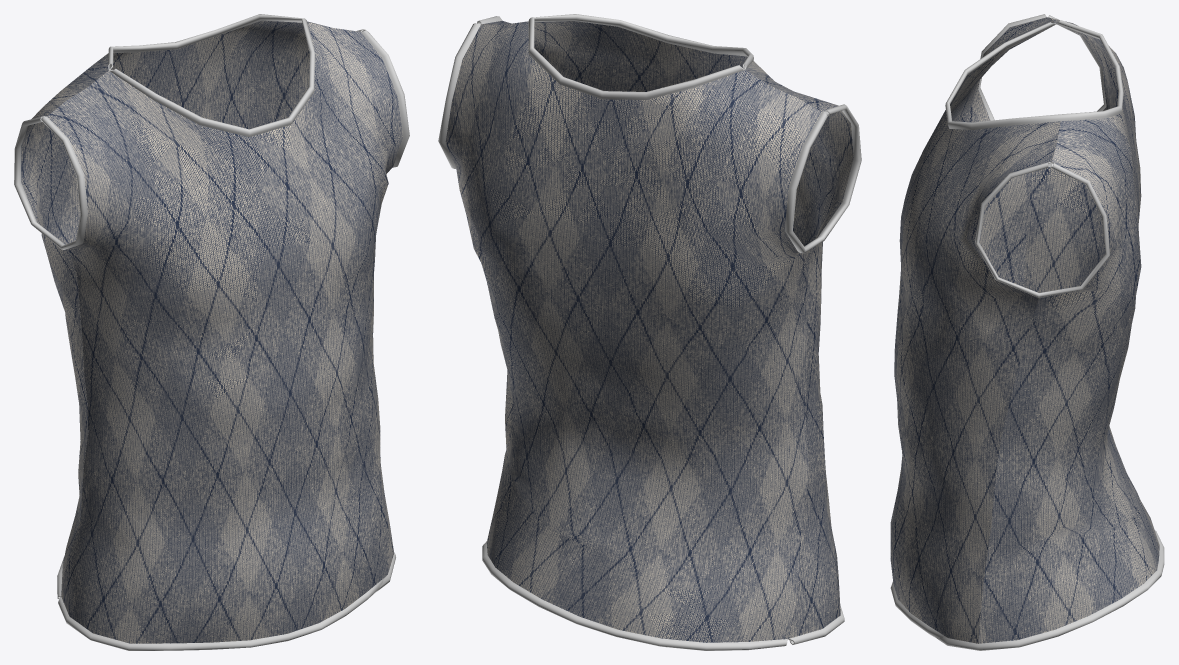
Rendered from kids4.fbx.
The picture shows the model from 3 angles, left to right: view 1: azimuth 30°, elevation 25°; view 2: azimuth 150°, elevation 25°; view 3: azimuth 270°, elevation 25°; orthographic projection. The views are drawn at different scales.
Parts seen in each view (by area): view 1: kids4; view 2: kids4; view 3: kids4.
Part boxes in pixels (box(x1,y1,x2,y2)): kids4: box(14, 14, 409, 650); kids4: box(438, 14, 861, 650); kids4: box(890, 14, 1164, 650).
Size of the model in its own units: 200 by 307 by 144.
